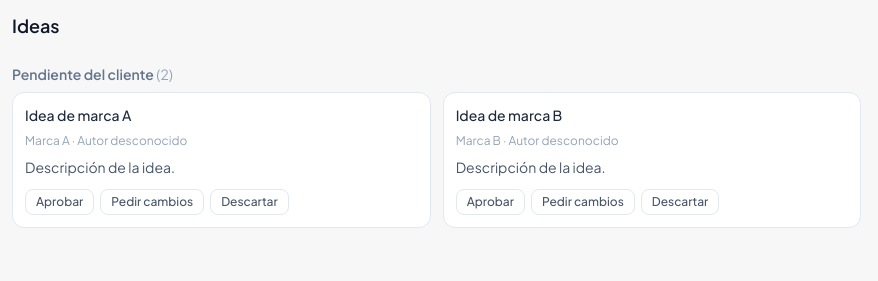
Test: IdeasBoard — acciones calculadas por marca › un error de una acción aparece dentro de la tarjeta de la idea que falló, no en otra
Click the button "Aprobar" below "Idea de marca B" at (490, 202), box x1=456 y1=189 x2=525 y2=215
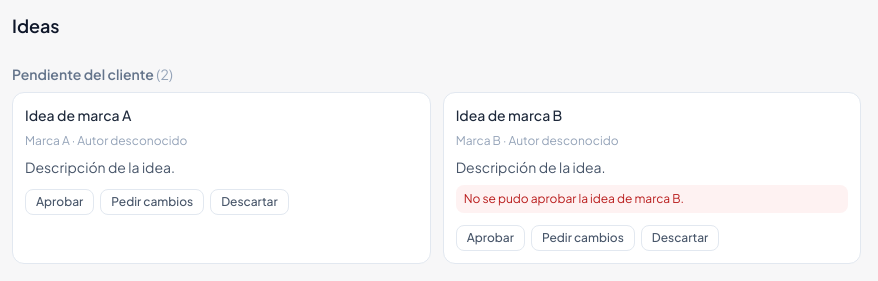
expect the text "No se pudo aprobar la idea de marca B." is shown once: met, box x1=456 y1=185 x2=848 y2=213
